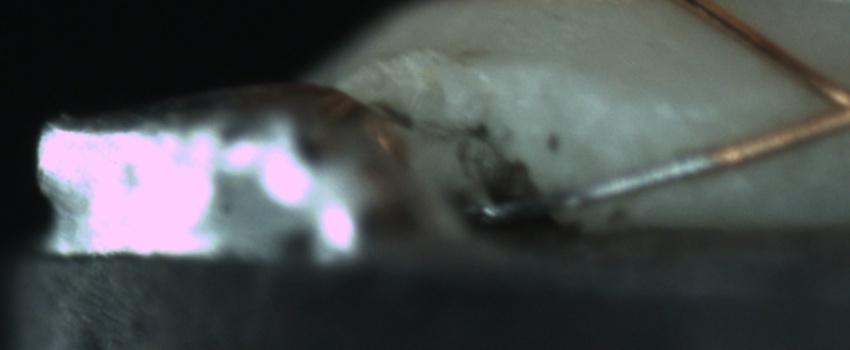DL: (594, 81, 746, 146)
TS: (480, 151, 715, 224)
